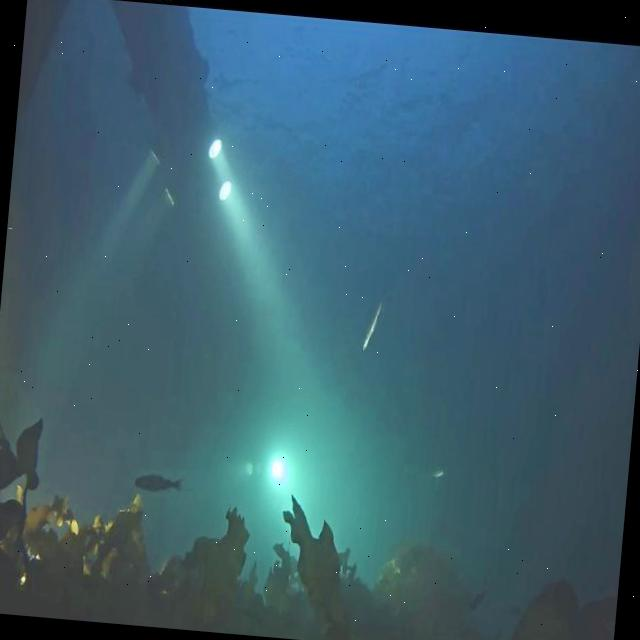fish: (359, 300, 385, 356), (133, 472, 184, 494), (430, 466, 446, 480)
